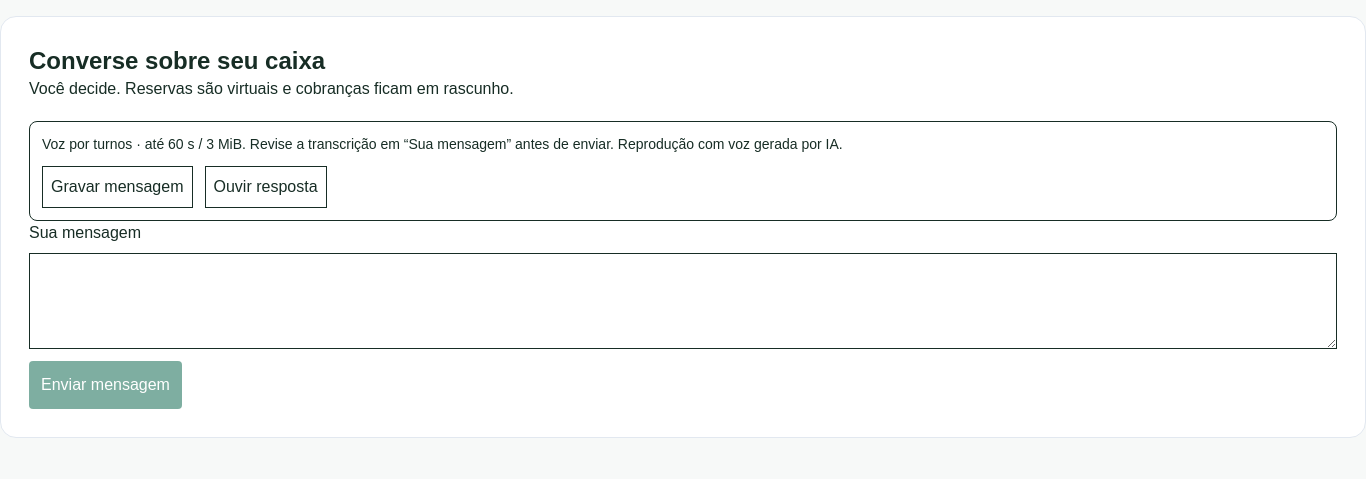
it: T19 VOICE-03 microfone negado mantém texto utilizável
Click the button "Gravar mensagem" at (117, 187), box [42,166,192,208]
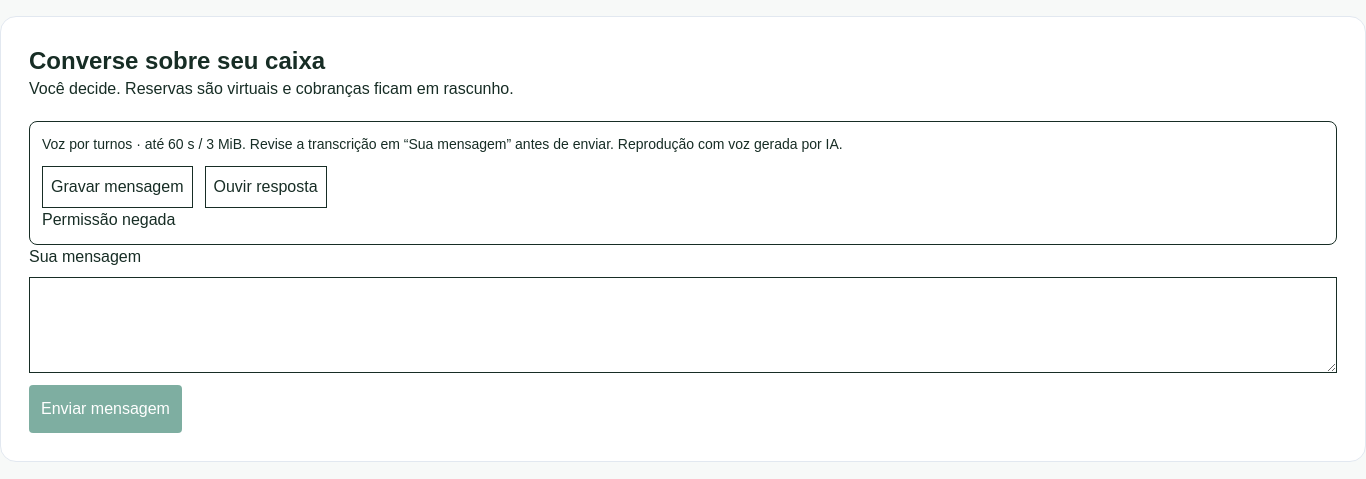
Check: the text "Permissão negada" is shown, box [42,211,175,228]
Type "Como está meu caixa?" into the text box labelled "Sua mensagem" at (683, 325), box [29,277,1337,373]
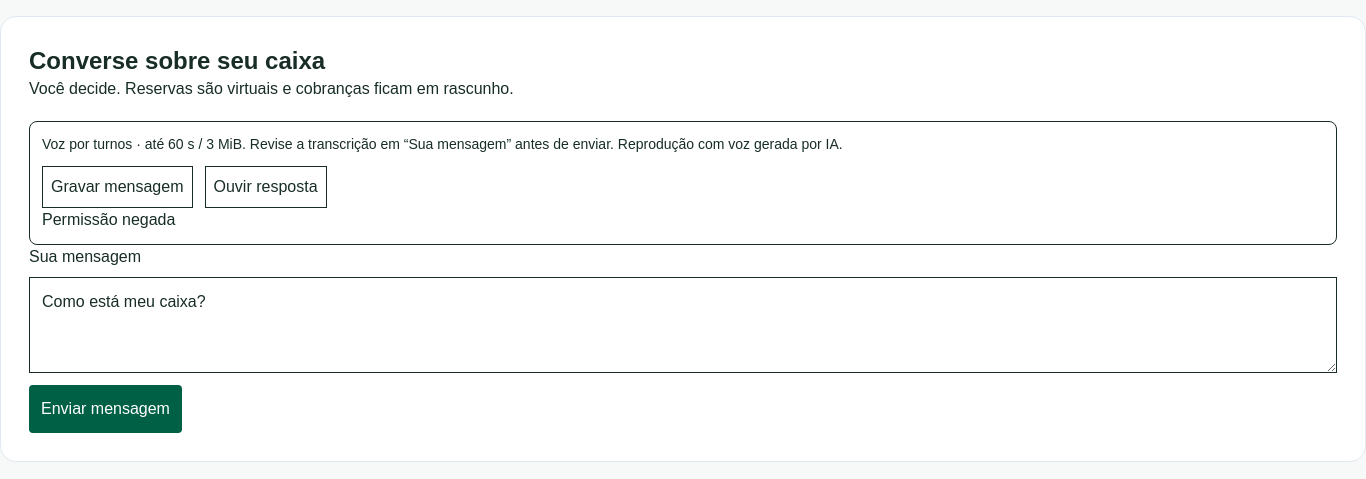
Check: the button "Enviar mensagem" is enabled, box [29,385,182,433]
